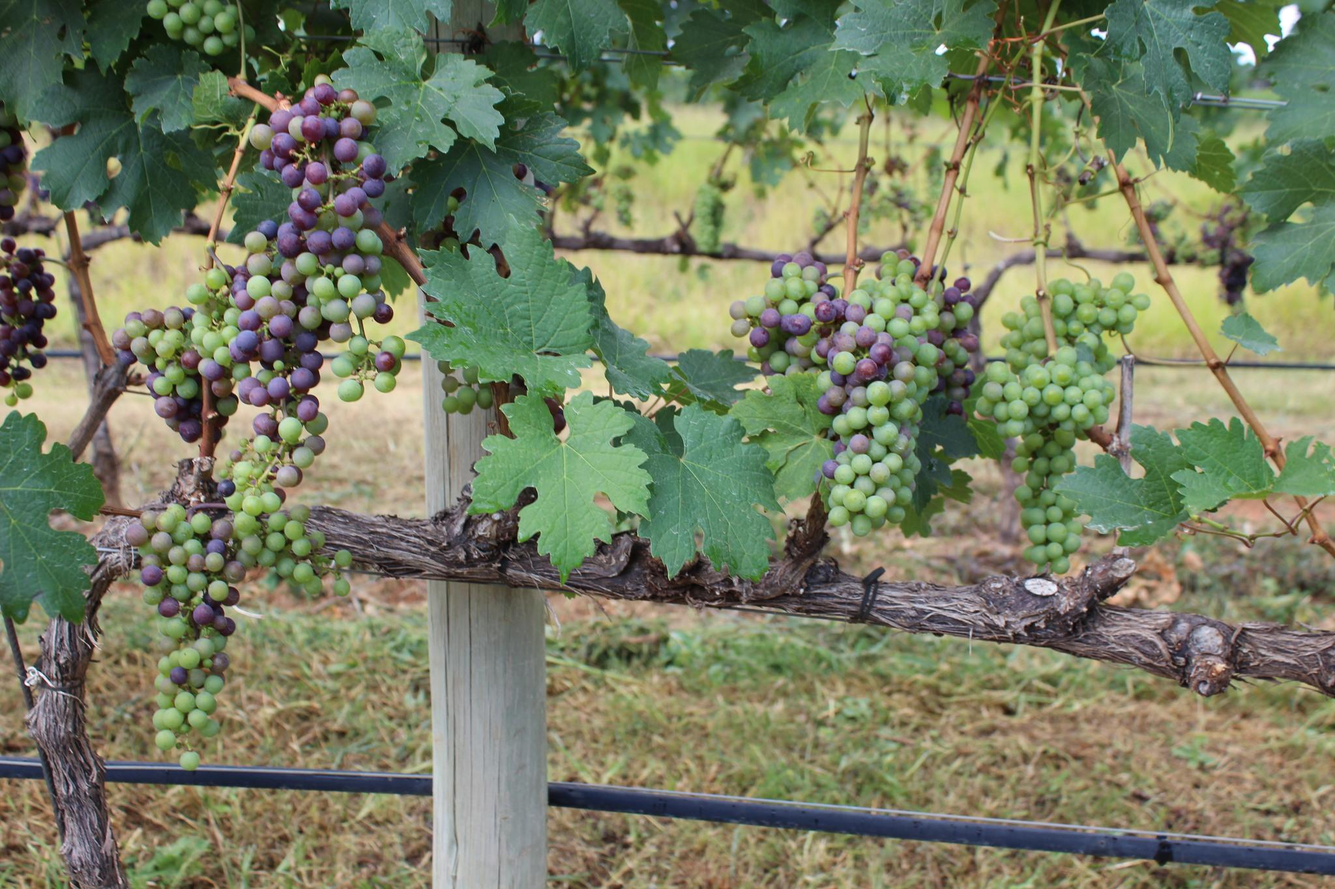Grape Unripe: (977, 356, 1104, 569), (1000, 276, 1145, 370), (146, 0, 253, 53)
